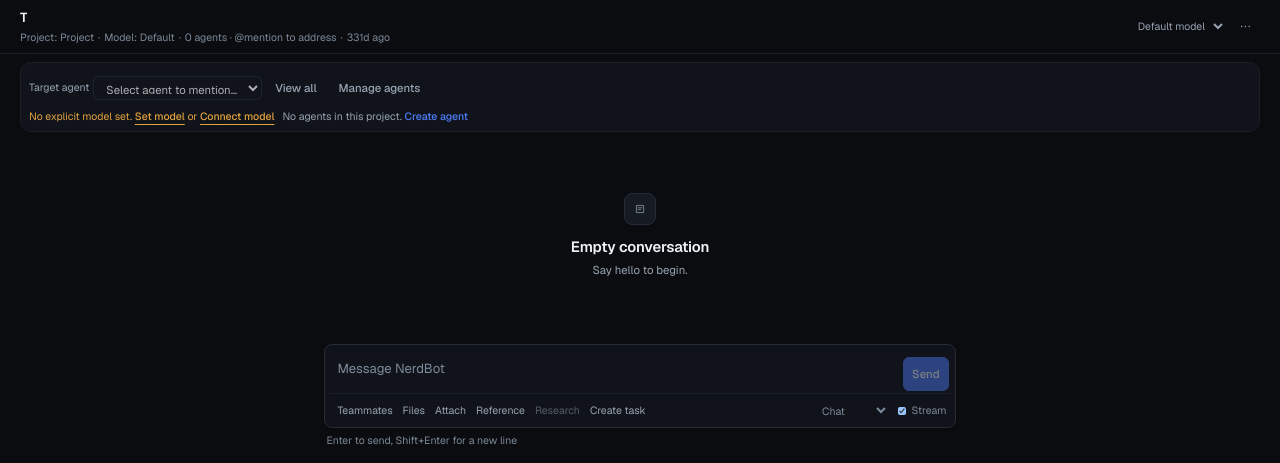
Test: ThreadPane workspace integration › default restoration uses initWorkspace and invalid stored workspace clear is reflected
Later steps or results of the test are not shown.
Select "Research" in the dropdown named "Chat mode". click: (851,411)
box: [812,398,890,423]
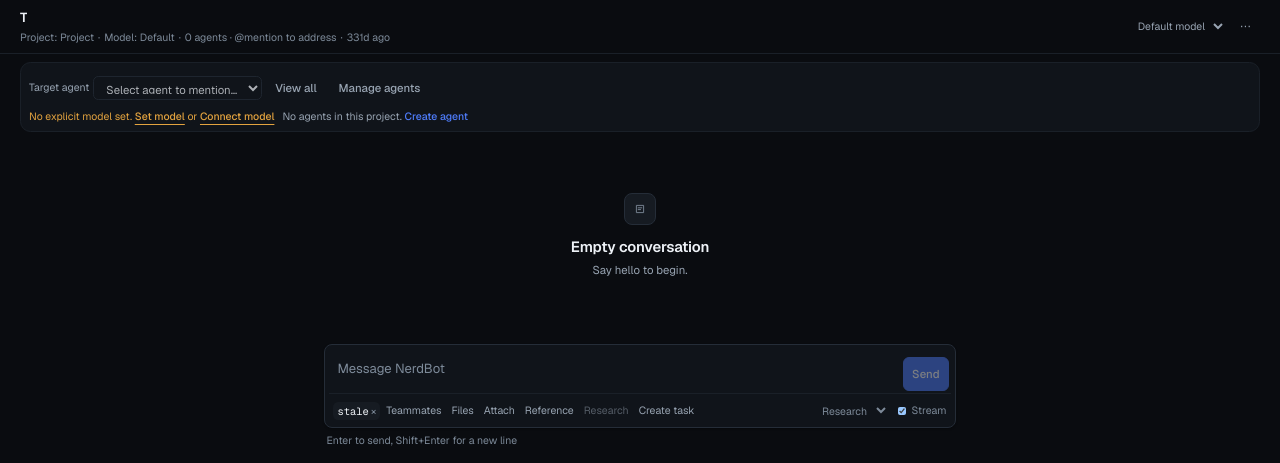
Expected: the button named "Select workspace" is shown, [337,404,369,418]
